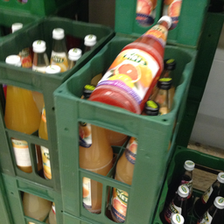juice: (91, 16, 172, 111), (2, 55, 43, 173), (77, 96, 114, 216)
